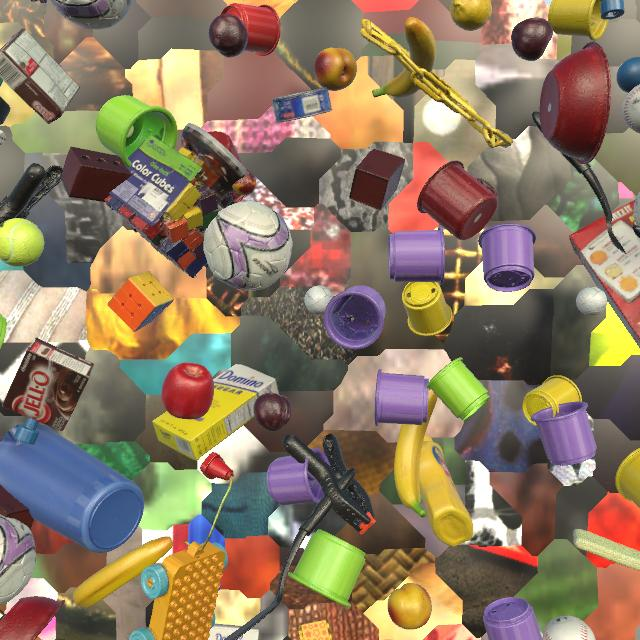ycb_003_cracker_box: (569, 199, 640, 348)
ycb_004_sugar_box: (152, 364, 279, 460), (208, 624, 259, 640)
ycb_006_mustard_bottle: (419, 436, 474, 547)
ycb_007_tuna_fish_can: (272, 88, 332, 123)
ycb_008_pudding_box: (2, 337, 94, 431), (0, 28, 80, 124)
ycb_011_banana: (73, 536, 173, 609), (394, 390, 438, 517), (372, 17, 436, 98)
ycb_013_apple: (161, 363, 214, 419)
ycb_014_lemon: (450, 0, 492, 31)
ycb_015_peach: (387, 583, 432, 630), (314, 48, 357, 91)
ycb_018_plum: (511, 18, 553, 61), (209, 14, 248, 58), (253, 393, 292, 431)
